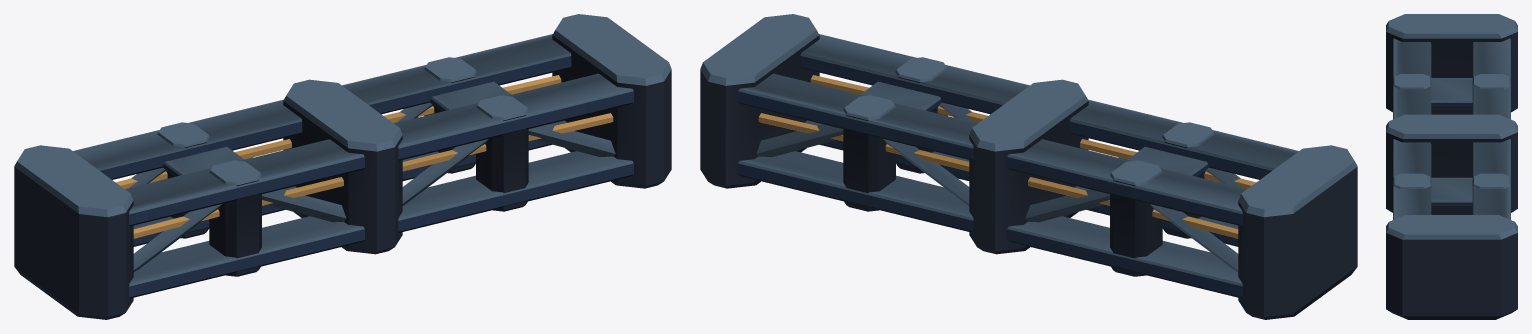
File: shipyard-service-arm.glb
The picture shows the model from 3 angles, left to right: view 1: azimuth 30°, elevation 25°; view 2: azimuth 150°, elevation 25°; view 3: azimuth 270°, elevation 25°; orthographic projection. The views are drawn at different scales.
Parts seen in each view (by area): view 1: shipyard-service-arm; view 2: shipyard-service-arm; view 3: shipyard-service-arm.
Part boxes in pixels (bbox=[...]): shipyard-service-arm: bbox=[14, 14, 671, 319]; shipyard-service-arm: bbox=[700, 14, 1357, 319]; shipyard-service-arm: bbox=[1386, 14, 1517, 319].
Size of the model in its own units: 10.66 by 1.93 by 2.68.
